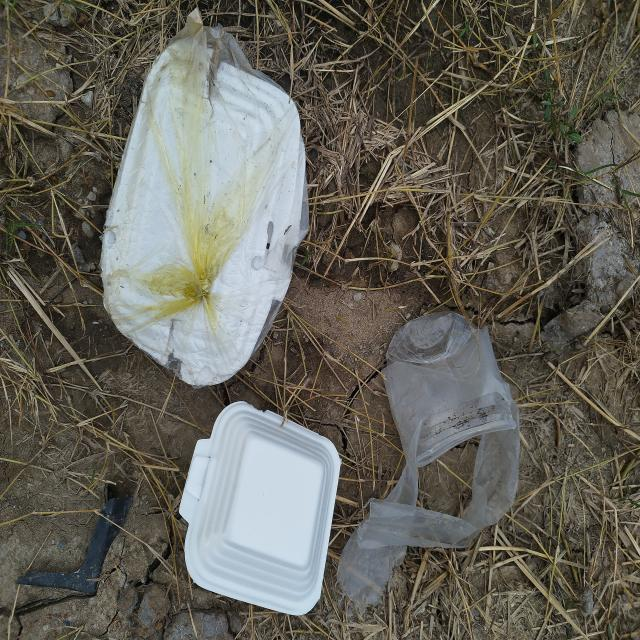bag: (336, 315, 522, 607)
foam box: (181, 401, 342, 614)
trash bag: (99, 7, 314, 386)
